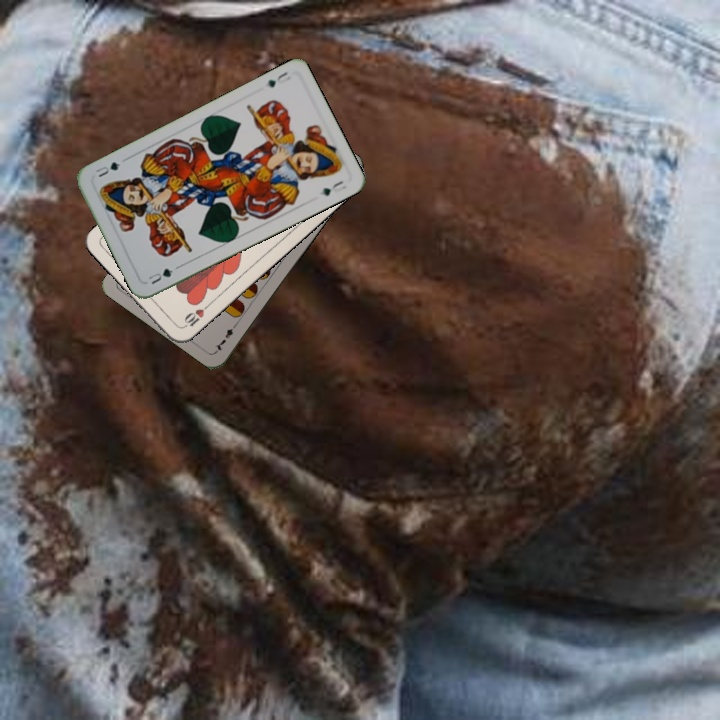E7: (211, 319, 240, 354)
GU: (144, 262, 181, 287), (263, 68, 294, 90)
H10: (178, 300, 212, 331)
